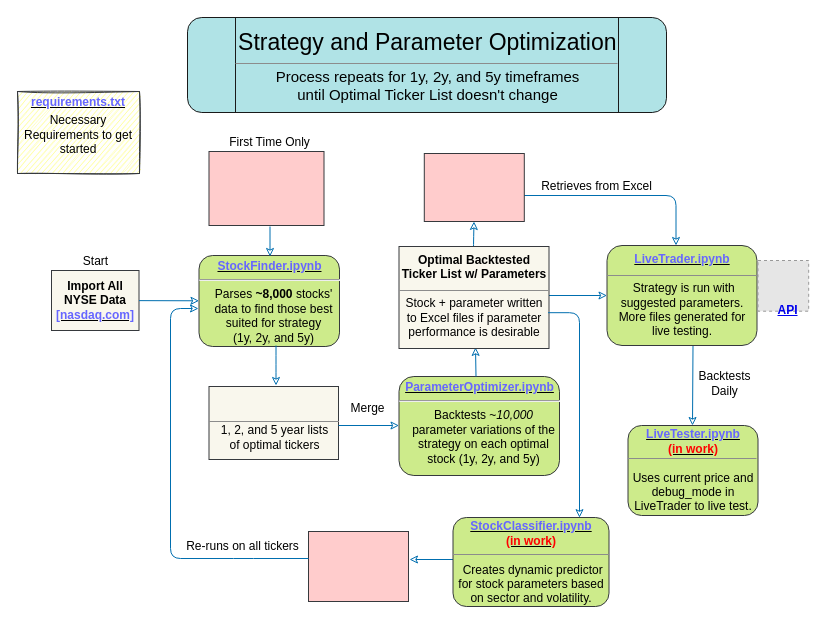
This 827x624 diagram has some shape labels left out. Grey dashed boxes stand in for pictures. Each missing label, with the box of its shape:
Basic Profit Strategy (non optimized parameters): (208, 150, 324, 226)
Optimal Ticker List (Strategy works): (208, 386, 338, 460)
Updated Profit Strategy (Dynamic parameter range): (308, 530, 408, 602)
Updated Profit Strategy (optimized parameters): (423, 152, 524, 222)
